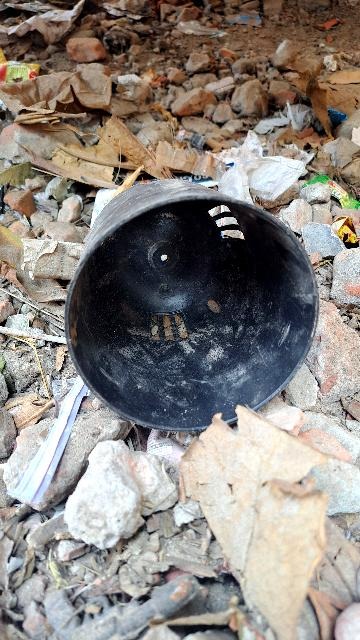hardplastic: (50, 167, 326, 442)
